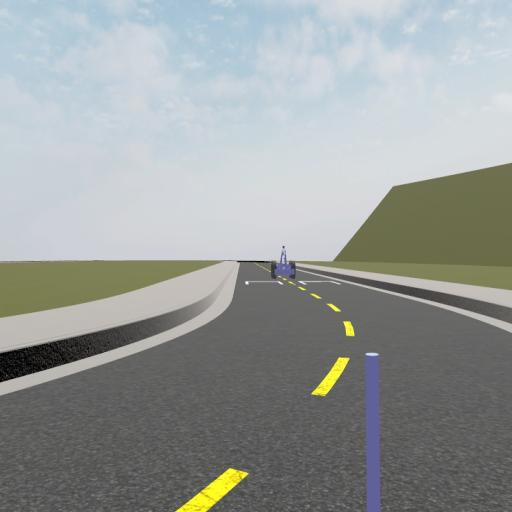ERP-42: (270, 244, 297, 280)
